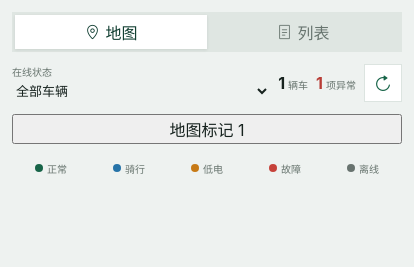
Test: 车辆地图与列表切换 › 切换到列表后加载车辆查询结果
This screenshot has width=414, height=267.
Step 1. Click the tab with test id "vehicle-list-mode" → (303, 32), box left=207, top=15, right=399, bottom=49
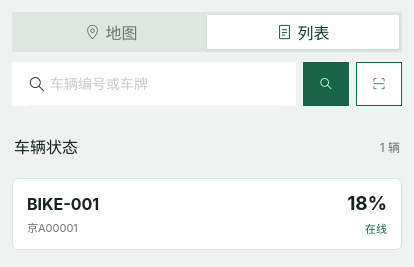
Result: the text "BIKE-001" is shown at left=27, top=194, right=99, bottom=214
Result: the text "京A00001" is shown at left=27, top=220, right=78, bottom=234
